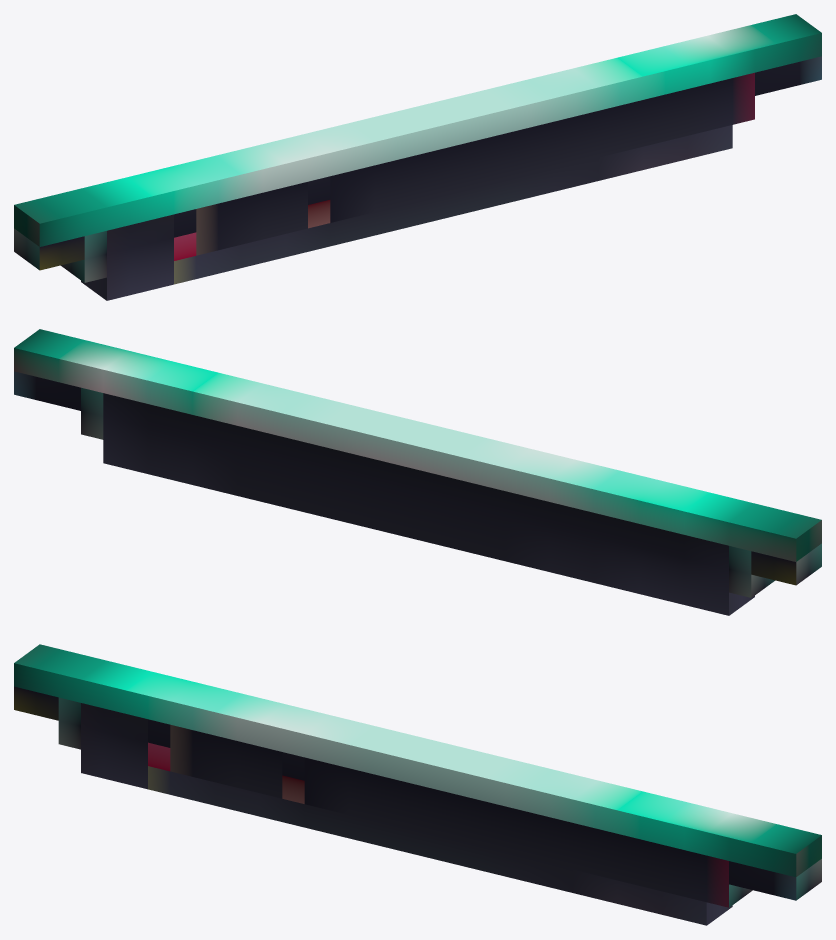
The model's file is Neon_Turquoise_NoCable_00.fbx.
3 views of the same model, one above another, from view 1: azimuth 30°, elevation 25°; view 2: azimuth 150°, elevation 25°; view 3: azimuth 330°, elevation 25° (orthographic).
Parts seen in each view (by area): view 1: Neon_Turquoise_NoCable_00; view 2: Neon_Turquoise_NoCable_00; view 3: Neon_Turquoise_NoCable_00.
Part boxes in pixels (left/top/right/bottom): Neon_Turquoise_NoCable_00: left=14, top=14, right=821, bottom=300; Neon_Turquoise_NoCable_00: left=14, top=329, right=821, bottom=615; Neon_Turquoise_NoCable_00: left=14, top=644, right=821, bottom=925.
Size of the model in its own units: 175 by 20 by 10.
